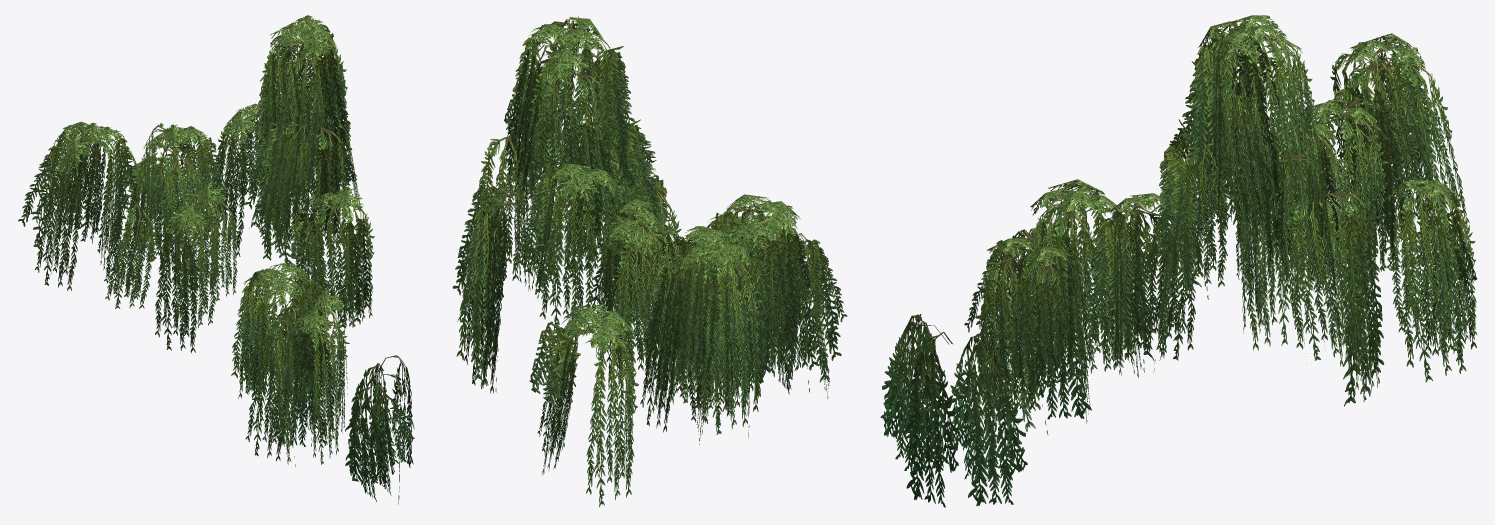
File: Yland1_yz_01 Yland1.FBX
3 renders of one model, left to right at view 1: azimuth 30°, elevation 25°; view 2: azimuth 150°, elevation 25°; view 3: azimuth 270°, elevation 25°, orthographic. The views are drawn at different scales.
Parts seen in each view (by area): view 1: Yland1_yz_01 Yland1; view 2: Yland1_yz_01 Yland1; view 3: Yland1_yz_01 Yland1.
Boxes of the visible parts, <box> form: Yland1_yz_01 Yland1: <box>18,15,414,504</box>; Yland1_yz_01 Yland1: <box>452,16,847,506</box>; Yland1_yz_01 Yland1: <box>880,15,1477,507</box>.
Bounding box in the file's own units: 7.76 × 9.96 × 10.79.
